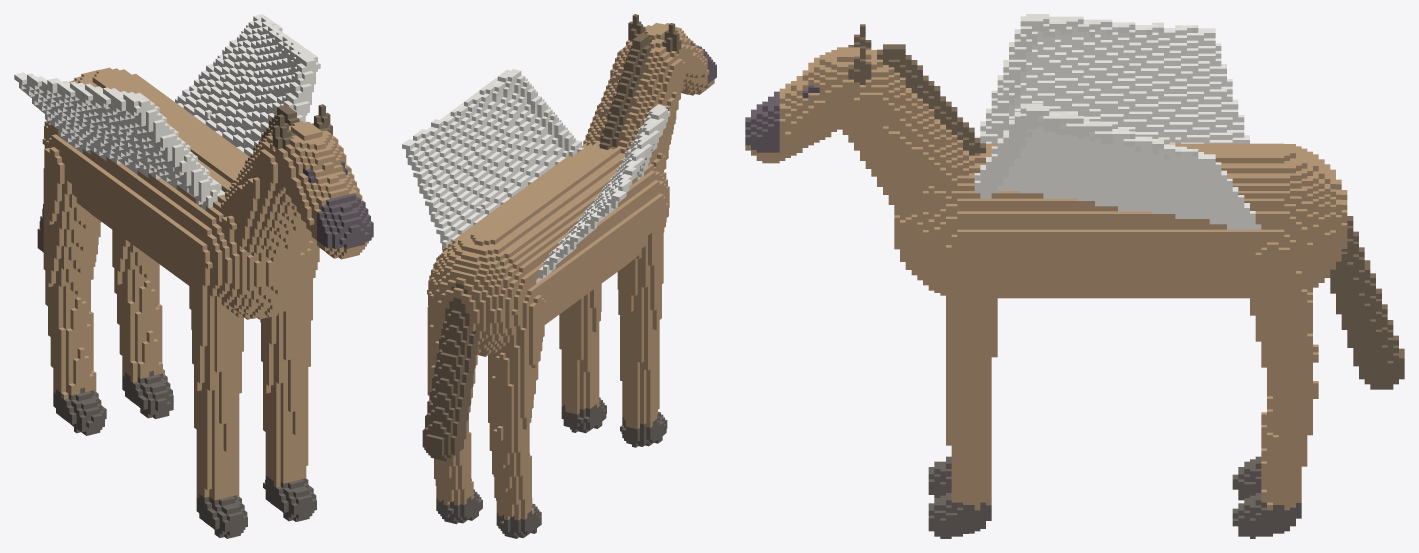
File: pegasus.glb
3 renders of one model, left to right at view 1: azimuth 30°, elevation 25°; view 2: azimuth 150°, elevation 25°; view 3: azimuth 270°, elevation 25°, orthographic. The views are drawn at different scales.
Visible parts, largest first — view 1: item; view 2: item; view 3: item.
Part boxes in pixels (x1,y1,x2,y2): item: (14,14,373,538); item: (402,14,716,538); item: (745,14,1404,538).
Size of the model in its own units: 54 by 92 by 115.
